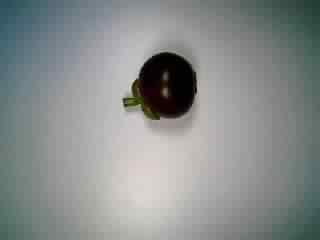mangosteen: (119, 49, 203, 130)
